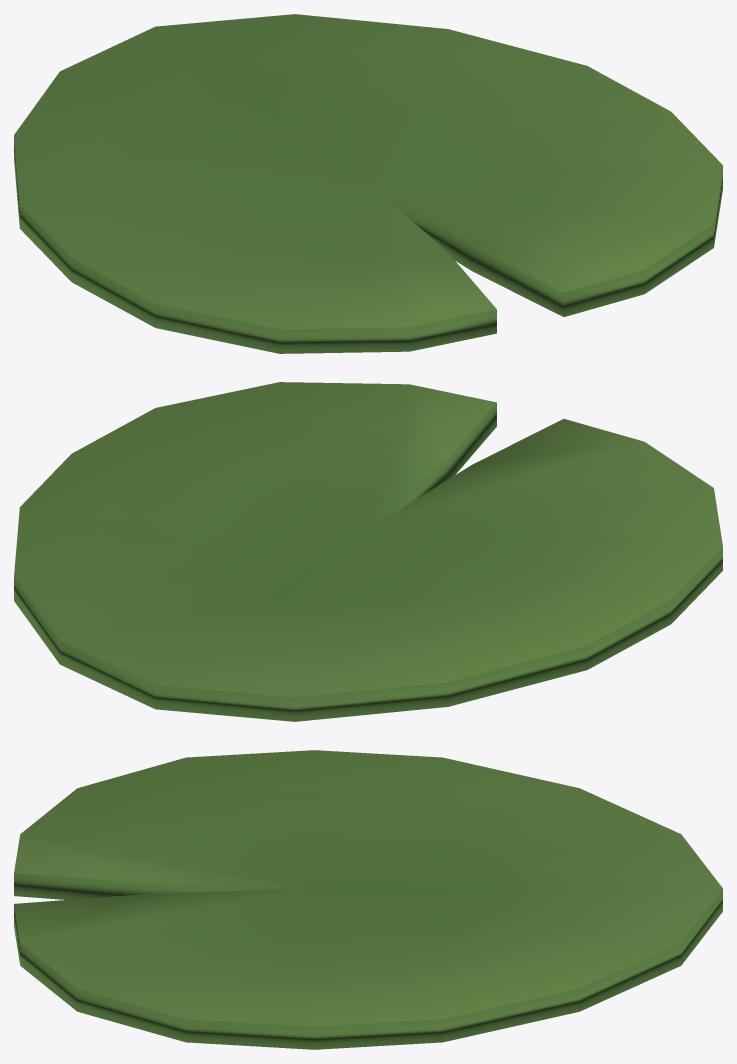
The picture shows the model from 3 angles, top to bottom: view 1: azimuth 30°, elevation 25°; view 2: azimuth 150°, elevation 25°; view 3: azimuth 270°, elevation 25°; orthographic projection. The views are drawn at different scales.
Visible parts, largest first — view 1: alt2.387; view 2: alt2.387; view 3: alt2.387.
Part boxes in pixels (x1,y1,x2,y2): alt2.387: [14, 14, 722, 353]; alt2.387: [14, 382, 722, 721]; alt2.387: [14, 750, 722, 1049].
Size of the model in its own units: 0.4616 by 0.018 by 0.5.
